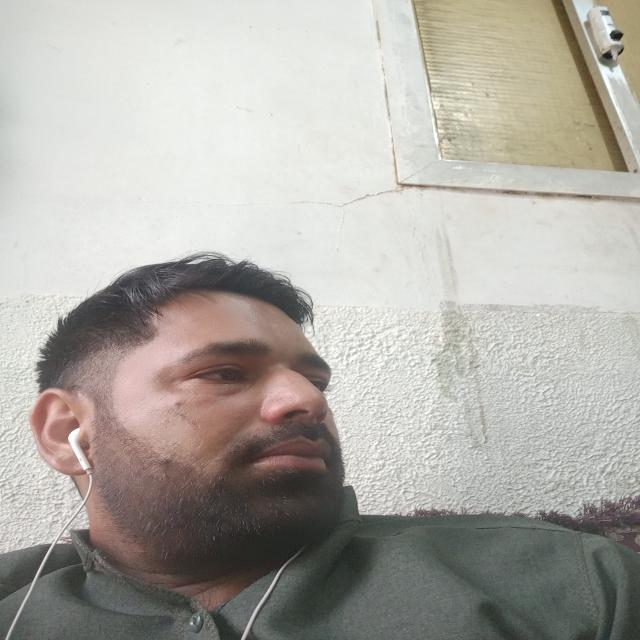Acne: (176, 412, 200, 430), (171, 398, 188, 408)
Englarged-Pores: (265, 377, 284, 399)
Wrinkles: (212, 416, 252, 459), (184, 312, 233, 326), (189, 323, 246, 334), (141, 386, 173, 394), (138, 381, 180, 385), (157, 392, 168, 401)
